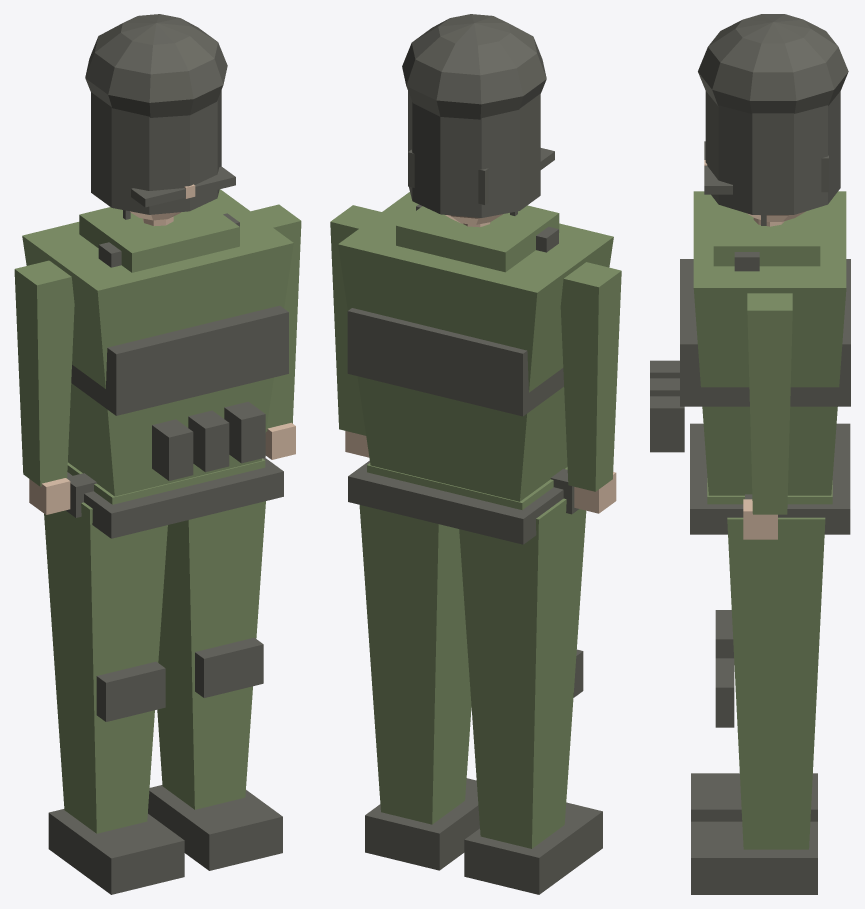
Rendered from unit_rifleman_rigged.glb.
3 renders of one model, left to right at view 1: azimuth 30°, elevation 25°; view 2: azimuth 150°, elevation 25°; view 3: azimuth 270°, elevation 25°, orthographic.
Parts seen in each view (by area): view 1: body_torso, body_leg-right, accent_torso, accent_head, body_leg-left, body_arm-right, accent_leg-right, accent_leg-left, body_arm-left, skin_arm-right, skin_arm-left; view 2: body_torso, body_leg-right, body_leg-left, accent_head, accent_torso, body_arm-right, accent_leg-right, accent_leg-left, body_arm-left, skin_arm-right; view 3: body_torso, body_leg-left, accent_head, accent_torso, body_arm-left, accent_leg-left, accent_leg-right, skin_arm-left.
Part boxes in pixels (x1,y1,x2,y2): body_torso: (22, 189, 293, 504); body_leg-right: (44, 502, 167, 833); accent_torso: (66, 213, 288, 538); accent_head: (85, 14, 235, 219); body_leg-left: (157, 501, 265, 809); body_arm-right: (14, 260, 74, 486); accent_leg-right: (48, 661, 184, 894); accent_leg-left: (148, 637, 282, 870); body_arm-left: (251, 204, 301, 431); skin_arm-right: (29, 478, 70, 514); skin_arm-left: (265, 422, 295, 459); body_torso: (338, 192, 613, 509); body_leg-right: (459, 498, 586, 848); body_leg-left: (359, 505, 471, 824); accent_head: (402, 14, 554, 217); accent_torso: (347, 204, 578, 544); body_arm-right: (560, 262, 621, 491); accent_leg-right: (464, 649, 602, 894); accent_leg-left: (365, 778, 479, 870); body_arm-left: (330, 205, 381, 435); skin_arm-right: (574, 472, 616, 513); body_torso: (693, 191, 846, 504); body_leg-left: (727, 517, 825, 849); accent_head: (698, 14, 848, 225); accent_torso: (650, 252, 850, 534); body_arm-left: (747, 293, 792, 514); accent_leg-left: (691, 658, 817, 894); accent_leg-right: (691, 610, 817, 821); skin_arm-left: (743, 499, 777, 539).
Size of the model in its own units: 0.9866 by 2.93 by 0.6414.
